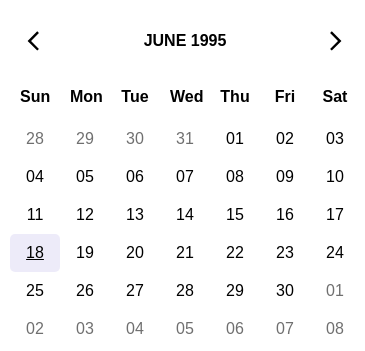
Test: Calendar › user events › when clicking previous month › it goes to previous month
Expected: the text "June 1995" is shown, [144,32,226,50]
Click the button named "previous month": [34, 41] box [4,16,64,66]
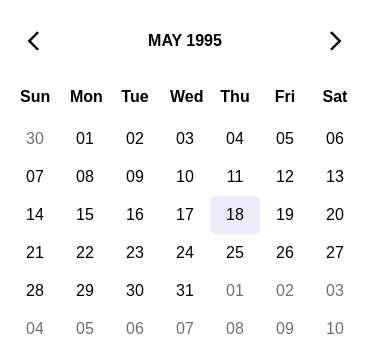
Expected: the text "May 1995" is shown, [148,32,222,50]
